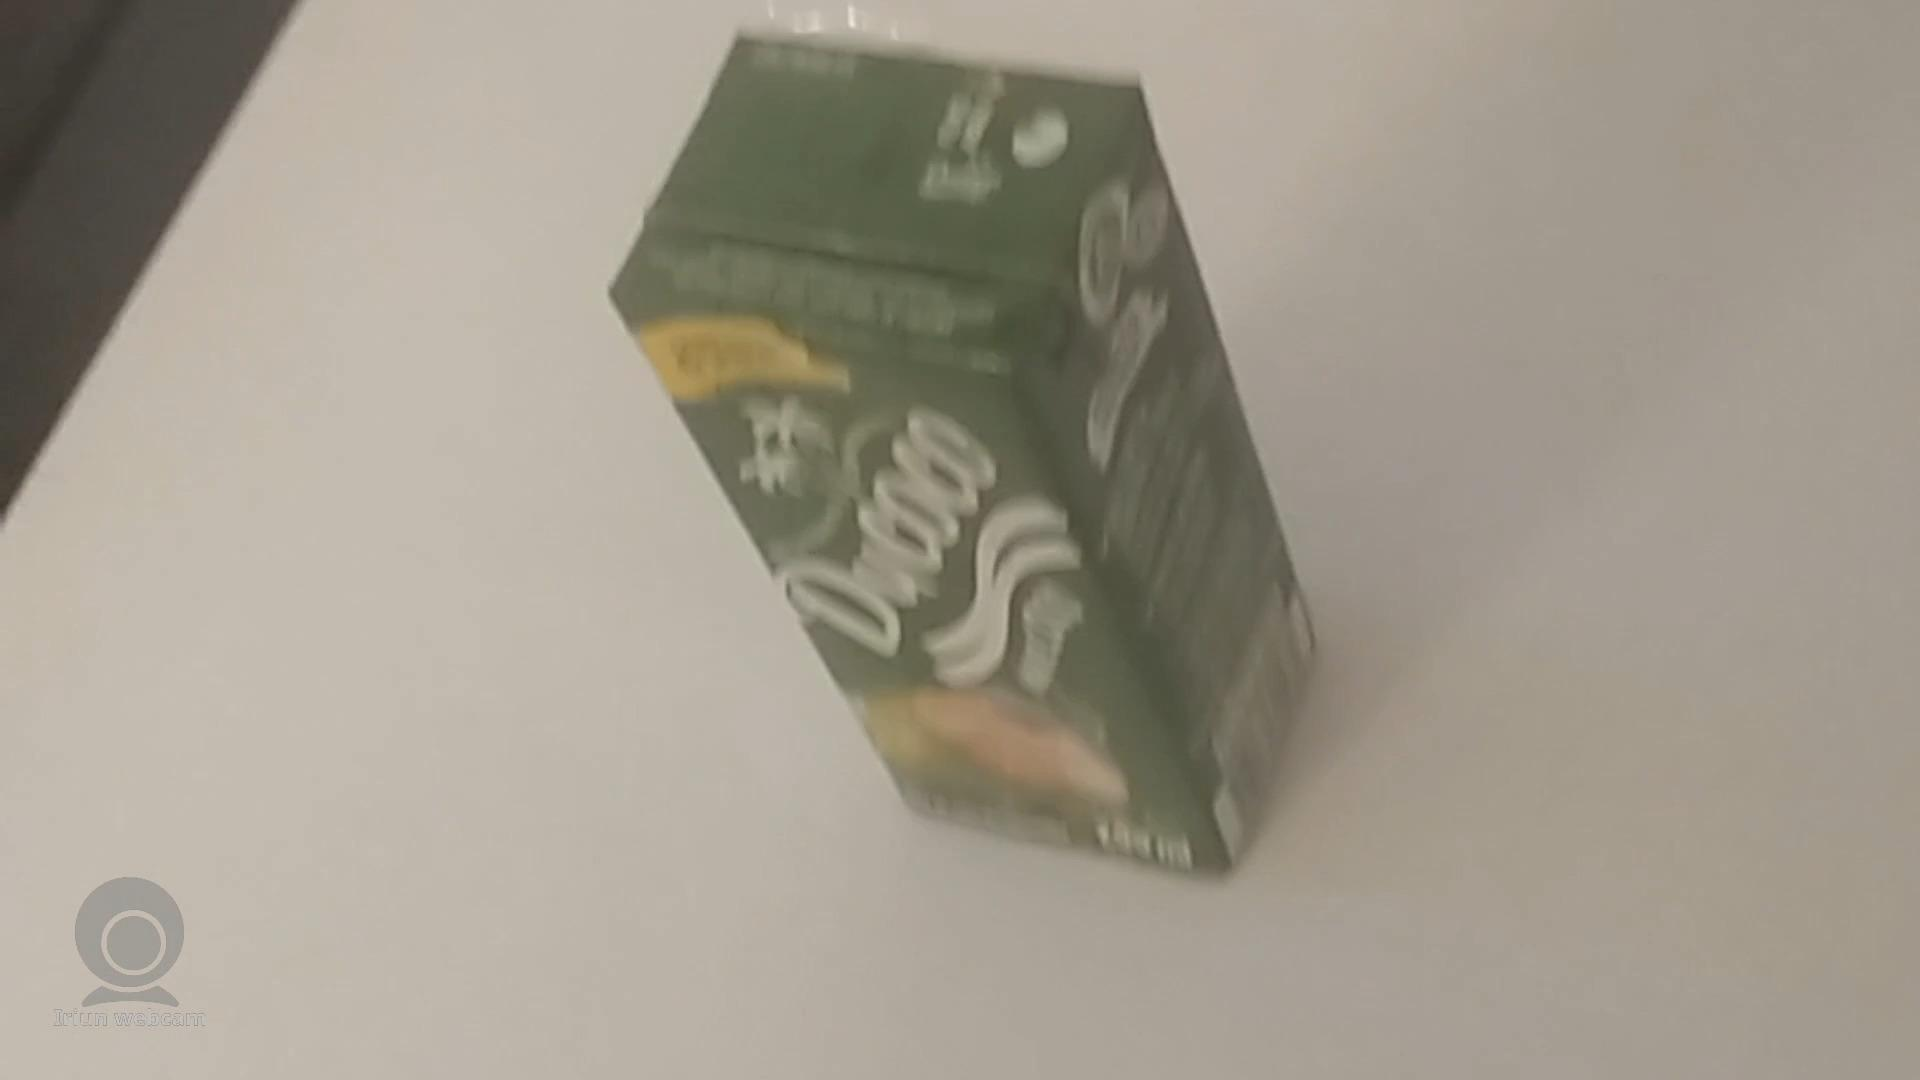coco: (607, 22, 1303, 893)
